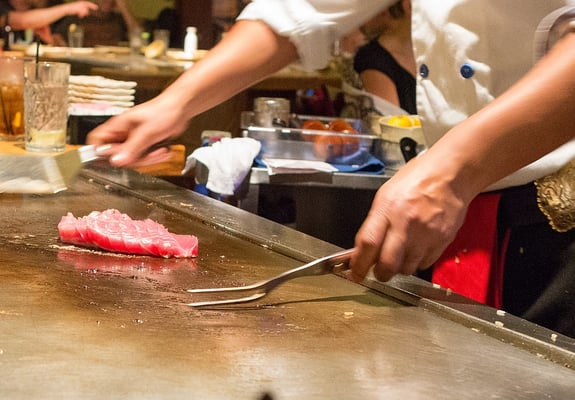pizza: (23, 61, 70, 153), (0, 50, 27, 140)
